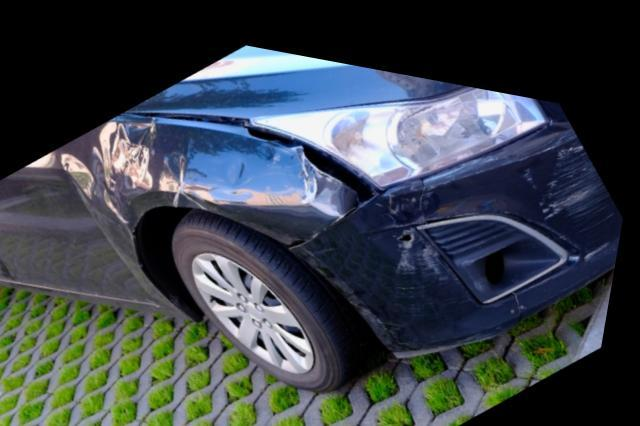crack: (423, 161, 431, 204), (518, 272, 529, 300)
dent: (101, 112, 329, 193)
dislocated part: (124, 101, 387, 192)
scratch: (516, 104, 624, 211), (398, 210, 452, 268)
